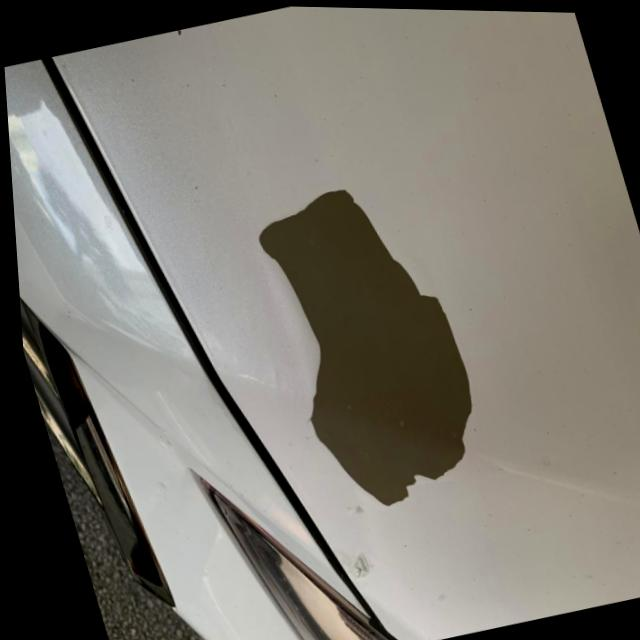Paint-fading: (245, 171, 481, 514)
